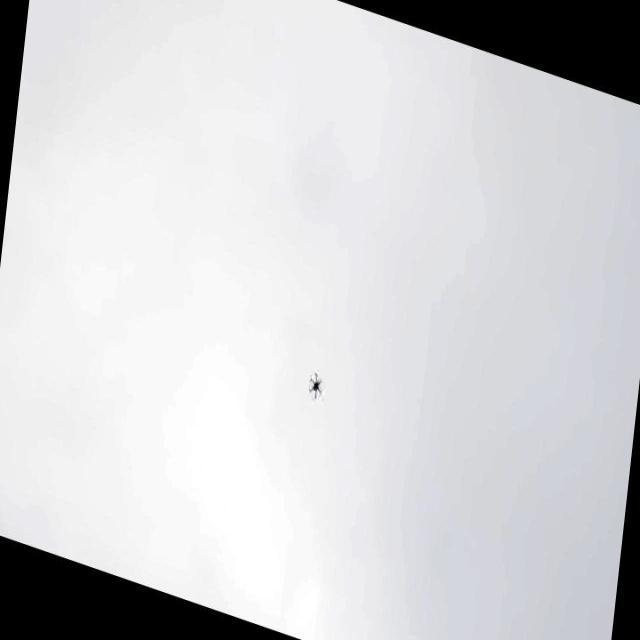drone: (304, 368, 326, 405)
